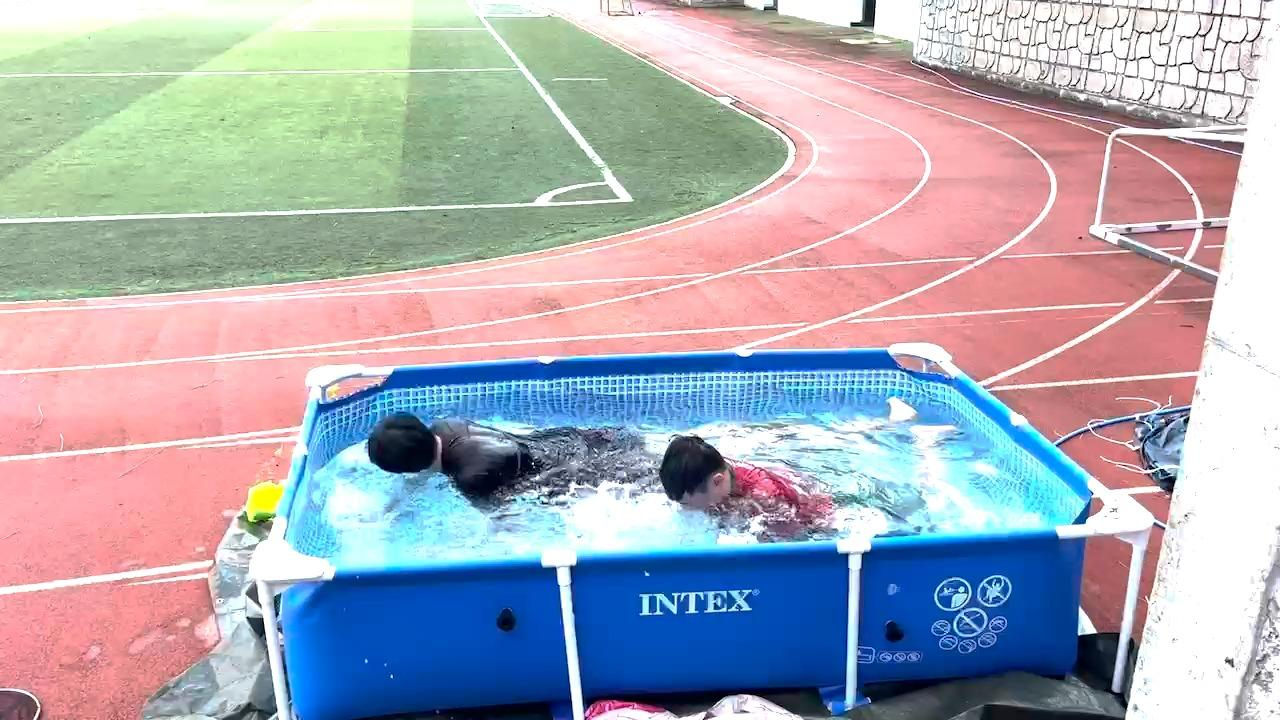Drowning: (640, 403, 975, 530), (366, 367, 632, 508)
